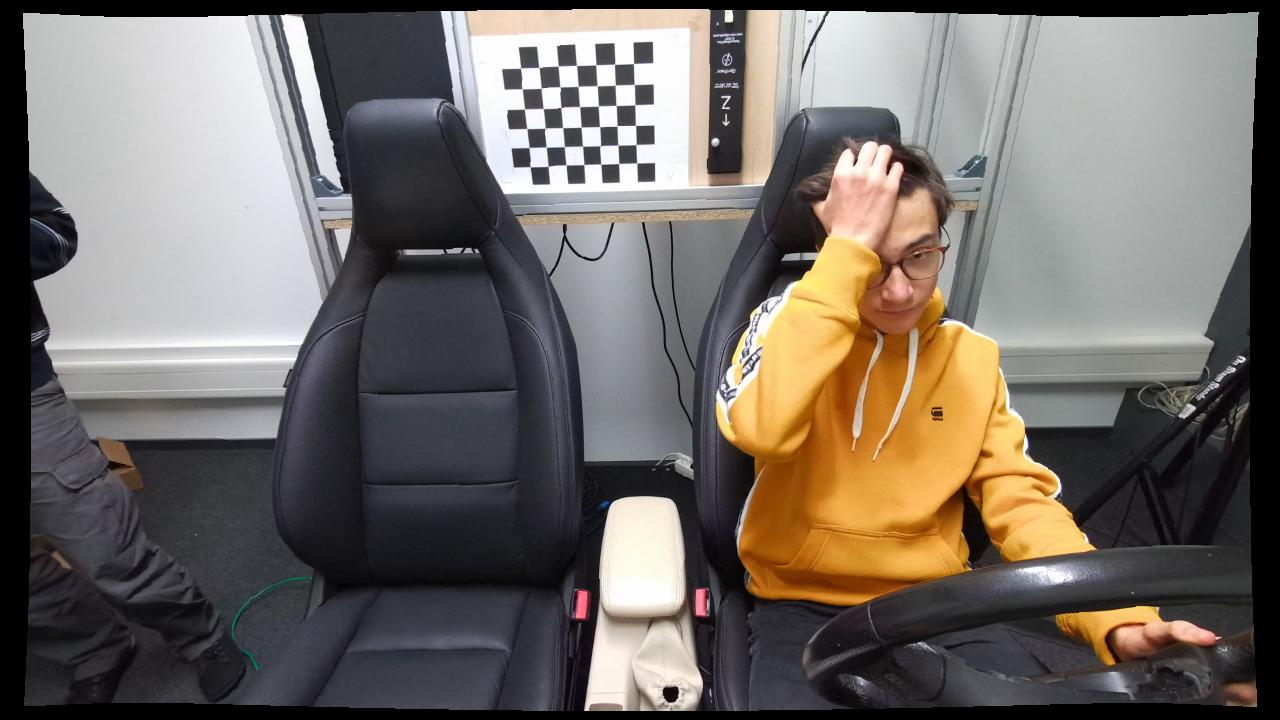Distracted: (705, 121, 1023, 713)
